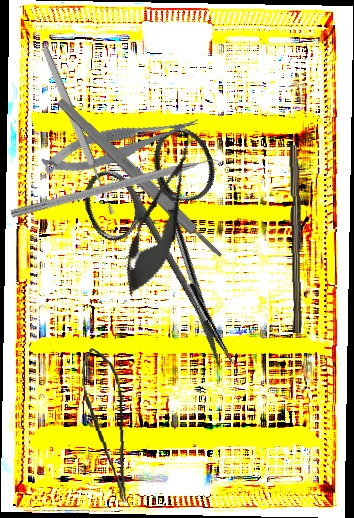Chopper: (9, 150, 234, 231)
Iris Scissors: (71, 121, 292, 393)
Micro Scissor: (111, 126, 212, 305), (36, 111, 206, 180), (78, 344, 132, 506)
Scalpel Handle: (54, 96, 226, 261), (286, 144, 308, 334)
Surgical Spoon: (40, 46, 117, 216)
